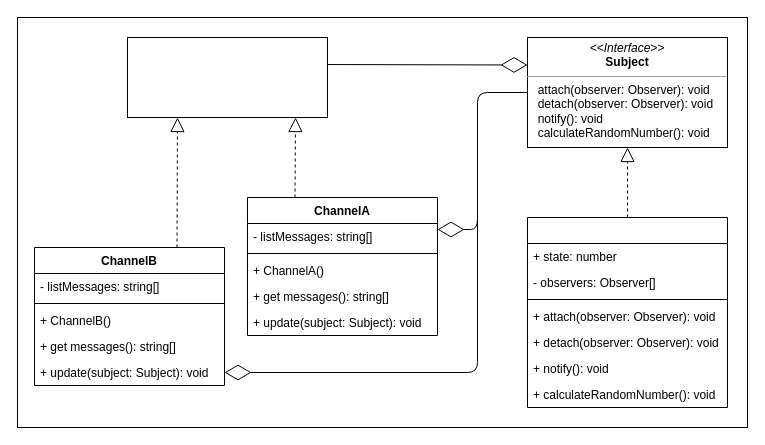
The diagram is 765 pixels wide and 445 high, and some of its shapes have lost their labels. Here are the shapes that lost their labels. From the top down, the box of each, then its label:
(126, 36, 328, 118): <<Interface>> Observer messages: string[] update(subject: Subject): void
(526, 216, 728, 408): ChannelServer
